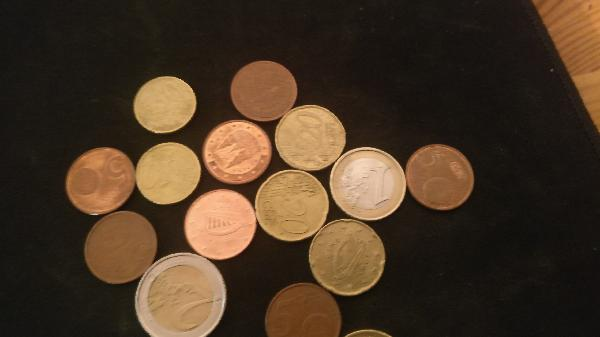Five Cent: (80, 210, 159, 283), (181, 190, 258, 259), (407, 142, 477, 211), (62, 149, 136, 212), (203, 118, 275, 182), (228, 57, 297, 122), (266, 282, 341, 337)
One Euro: (330, 146, 407, 219)
Ten Cent: (130, 74, 197, 132), (138, 142, 201, 203)
Twenty Cent: (311, 218, 385, 296), (255, 167, 328, 240), (276, 105, 344, 169)
Two Euro: (134, 252, 226, 337)
